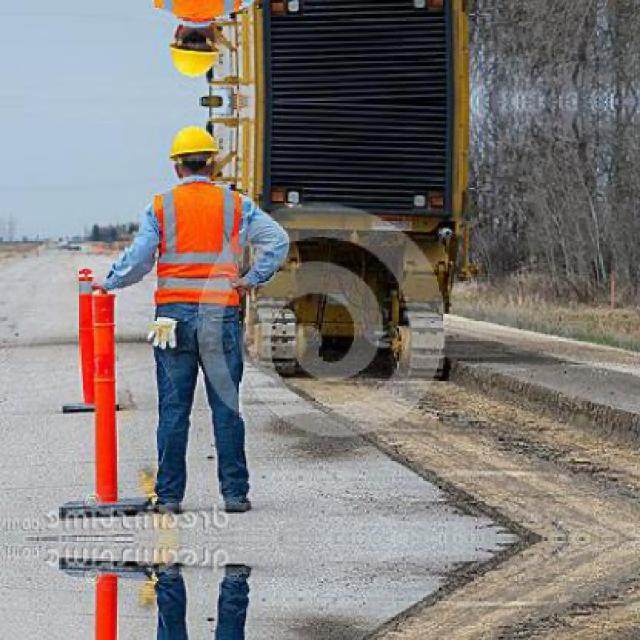con casco: (116, 114, 240, 211)
